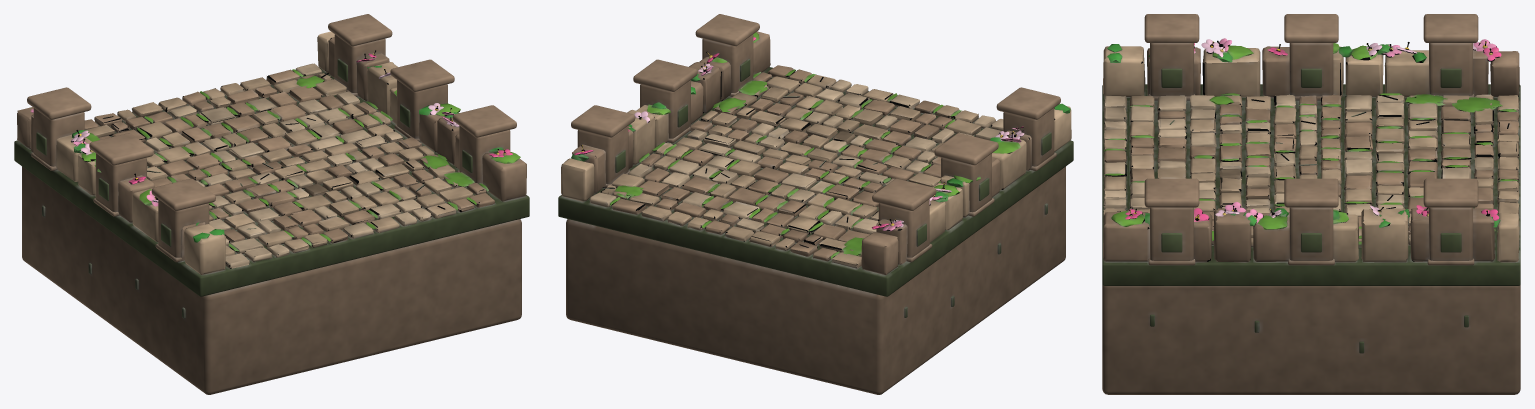
Rendered from en_path_segment.glb.
The picture shows the model from 3 angles, left to right: view 1: azimuth 30°, elevation 25°; view 2: azimuth 150°, elevation 25°; view 3: azimuth 270°, elevation 25°; orthographic projection. The views are drawn at different scales.
Parts seen in each view (by area): view 1: en_path_segment; view 2: en_path_segment; view 3: en_path_segment.
Boxes of the visible parts, <box> form: en_path_segment: <box>14,14,529,394</box>; en_path_segment: <box>558,14,1073,394</box>; en_path_segment: <box>1102,14,1520,394</box>.
Size of the model in its own units: 10.6 by 5.37 by 10.
Materials: 11 (11 with a texture image).
